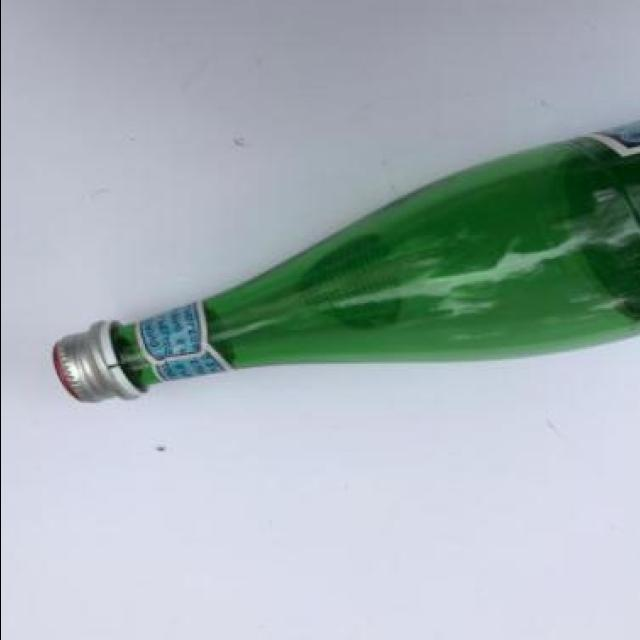kaca: (117, 120, 640, 390)
